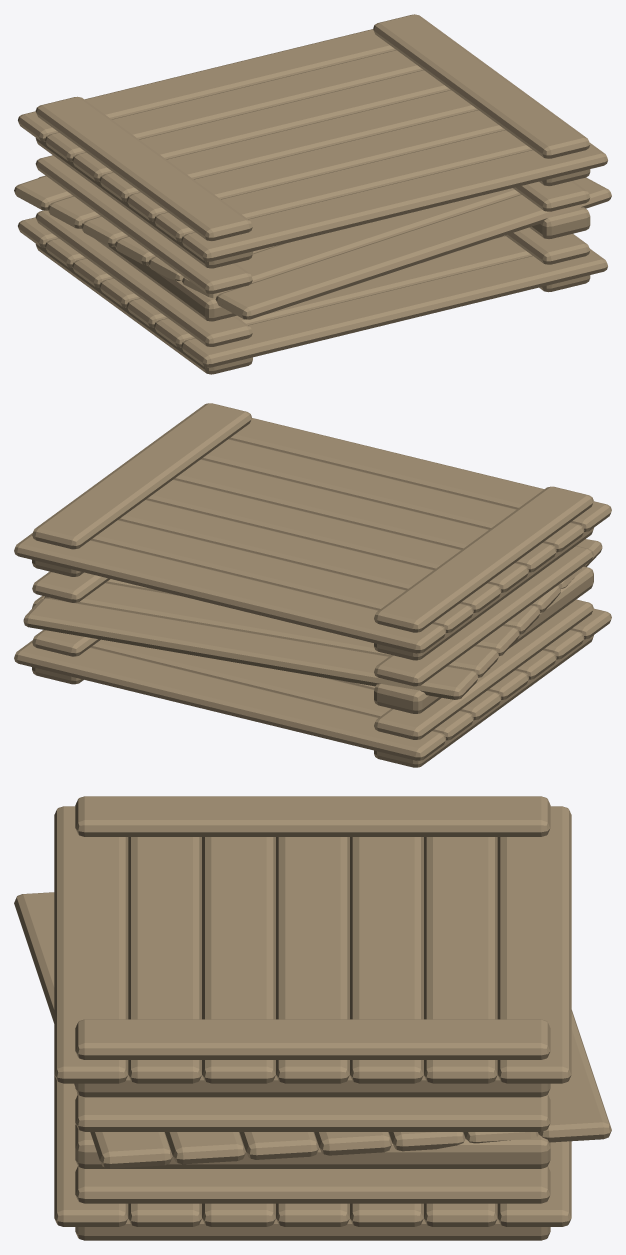
File: pallet_stack.fbx
The picture shows the model from 3 angles, top to bottom: view 1: azimuth 30°, elevation 25°; view 2: azimuth 150°, elevation 25°; view 3: azimuth 270°, elevation 25°; orthographic projection. The views are drawn at different scales.
Visible parts, largest first — view 1: pallet_stack; view 2: pallet_stack; view 3: pallet_stack.
Boxes of the visible parts, x1,y1,x2,y2 form: pallet_stack: [14, 14, 611, 374]; pallet_stack: [14, 403, 611, 767]; pallet_stack: [14, 796, 611, 1240].
Size of the model in its own units: 1.32 by 0.4125 by 1.13.
